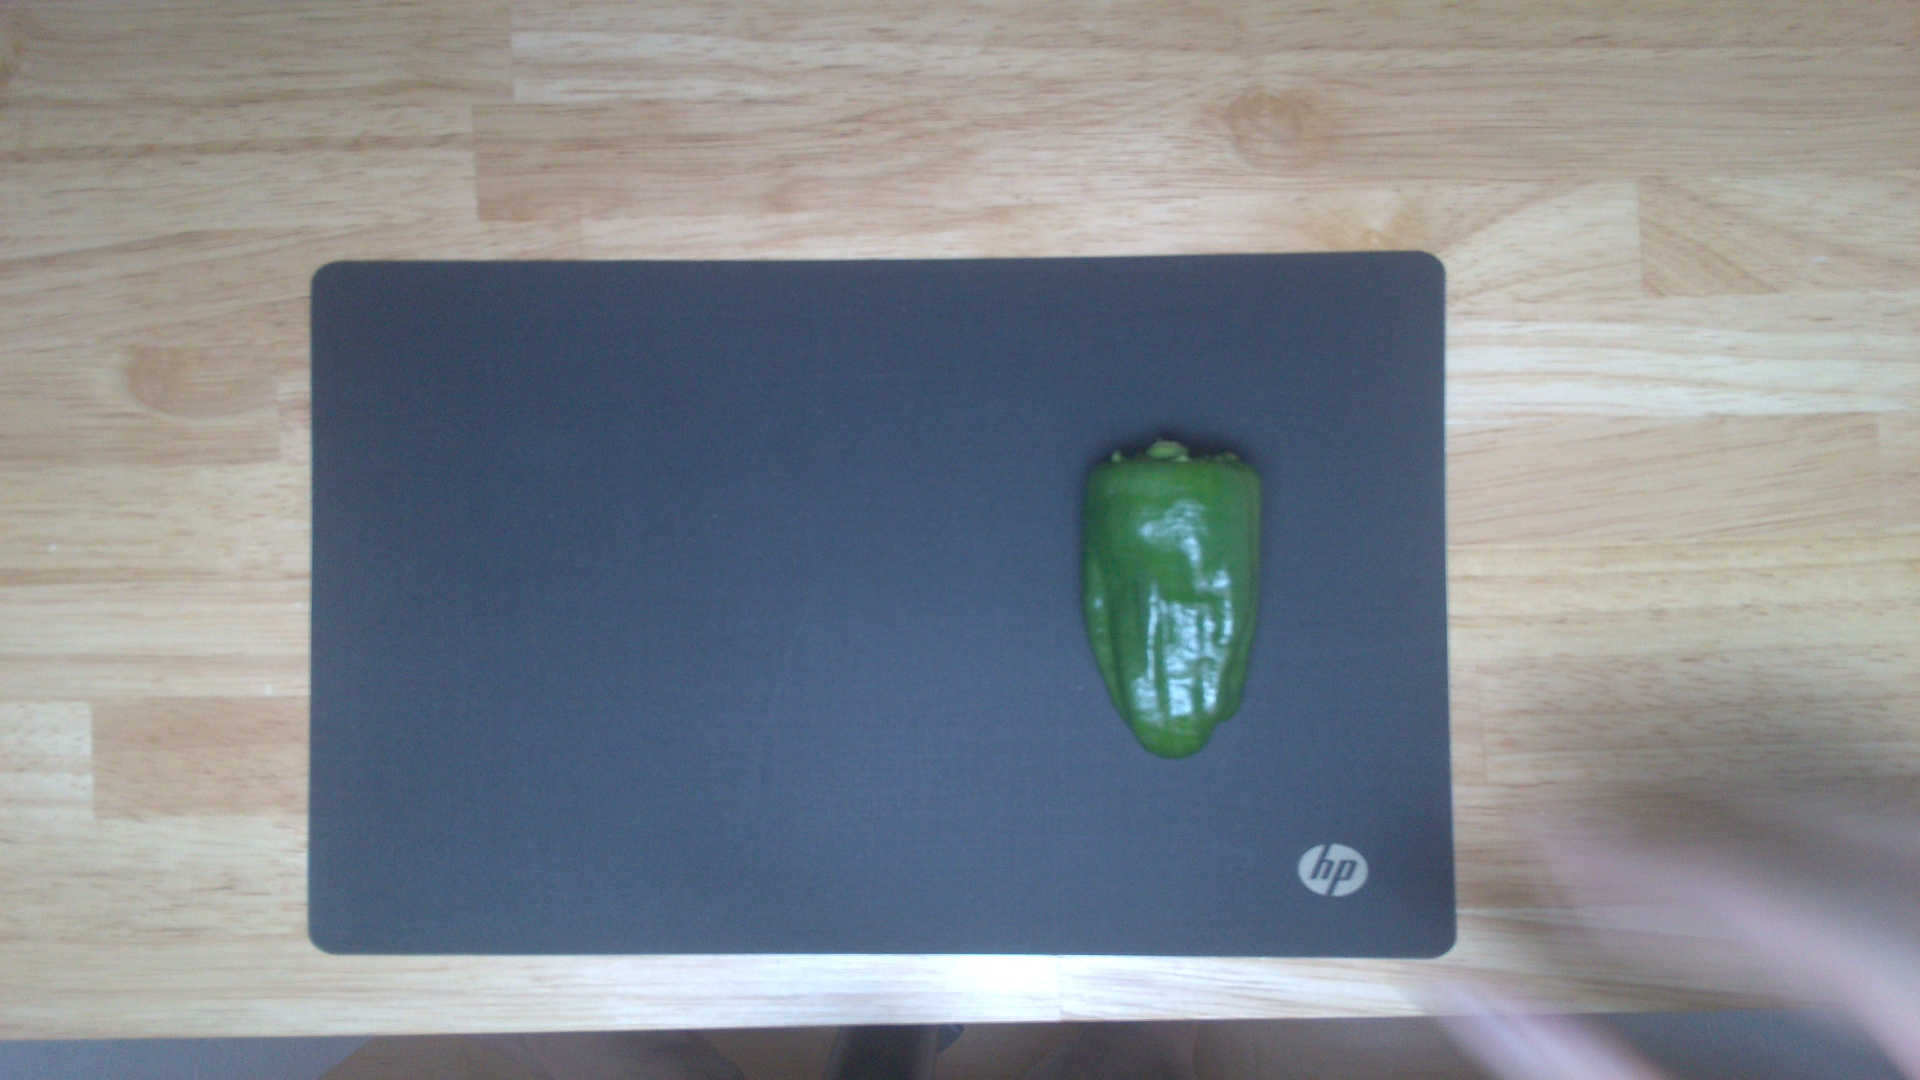Piman: (1076, 435, 1265, 760)
